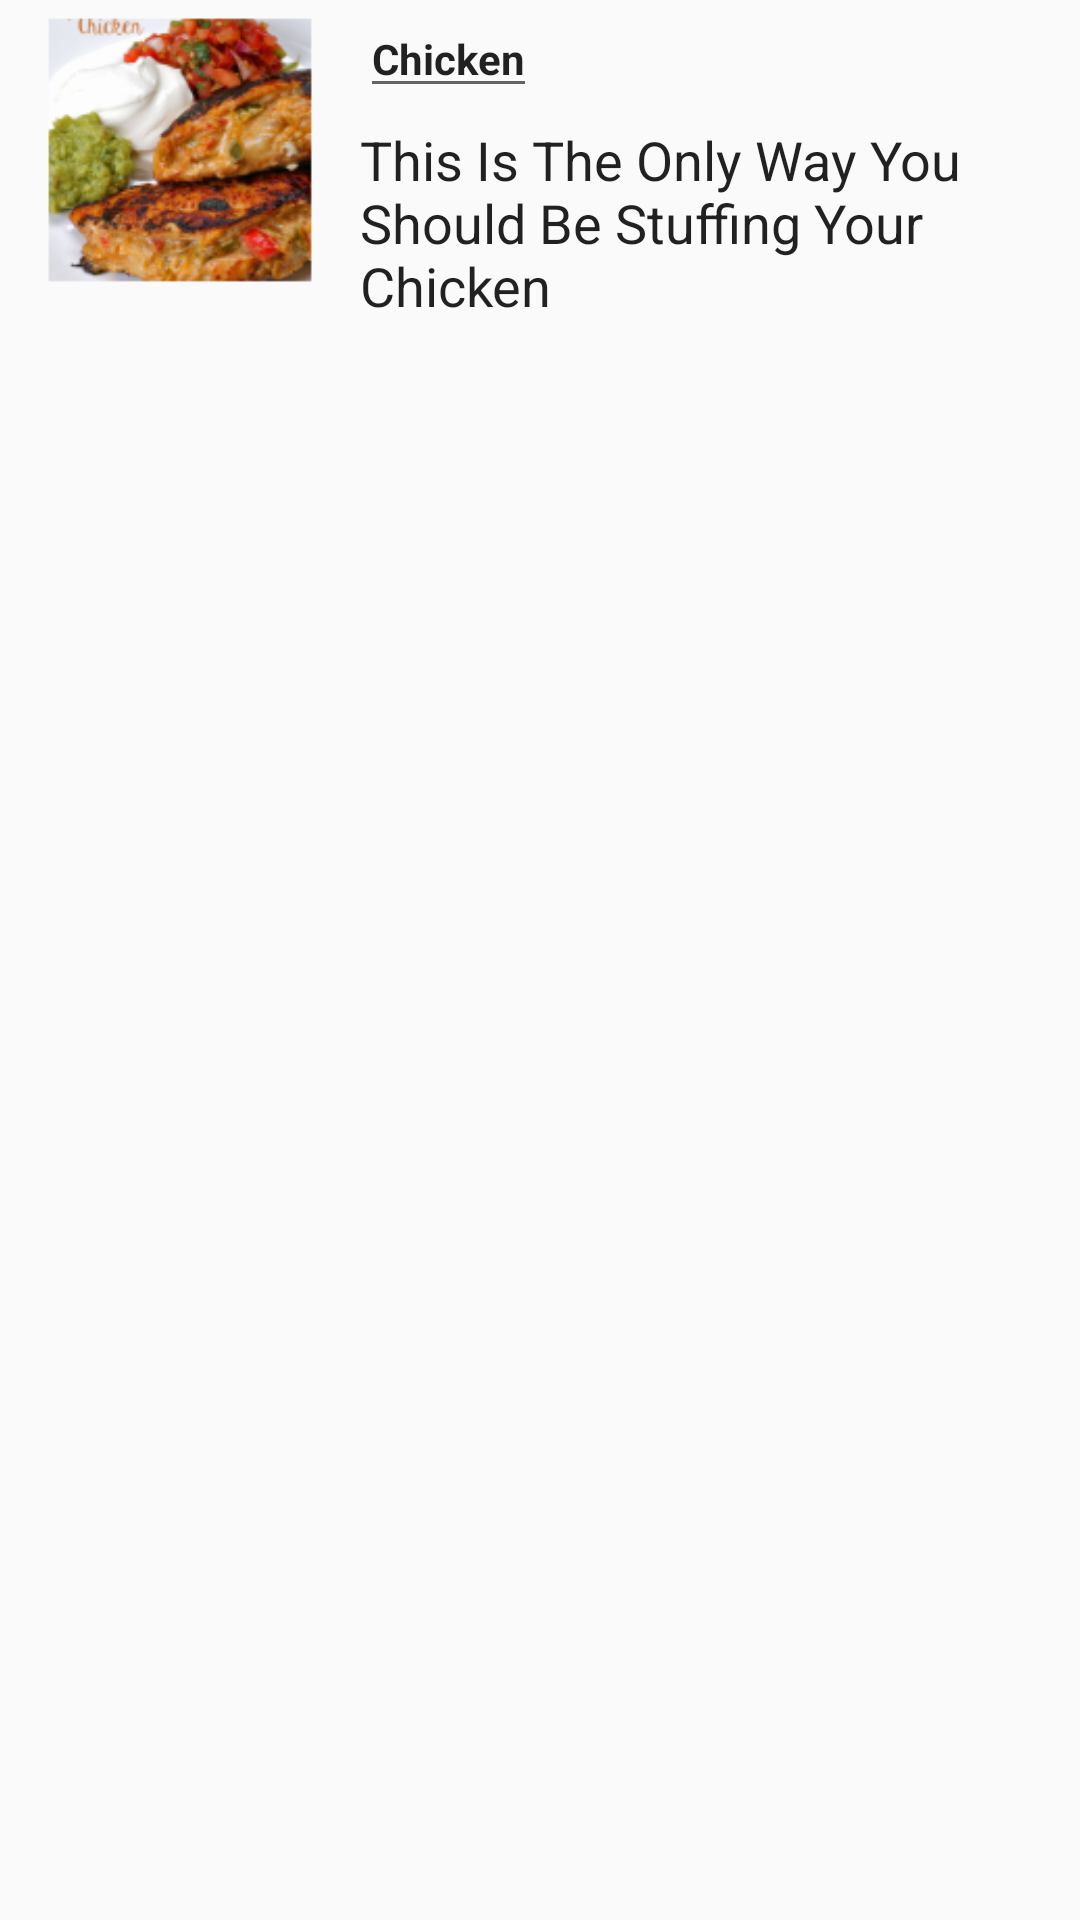

Named icons in this screenshot (1080px x 1920px) and their centers, (x=x, y=y):
fajitas: (x=180, y=150)
